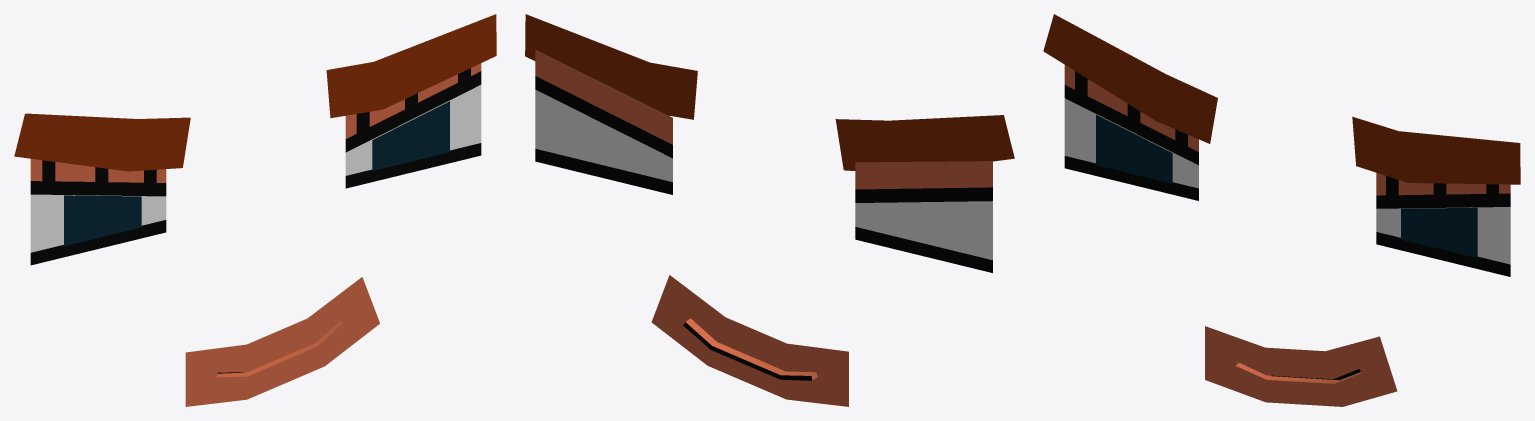
The model's file is Face Female 05.FBX.
The picture shows the model from 3 angles, left to right: view 1: azimuth 30°, elevation 25°; view 2: azimuth 150°, elevation 25°; view 3: azimuth 330°, elevation 25°; orthographic projection. The views are drawn at different scales.
Parts seen in each view (by area): view 1: Face Female 05; view 2: Face Female 05; view 3: Face Female 05.
Boxes of the visible parts, x1,y1,x2,y2 form: Face Female 05: [14, 14, 496, 406]; Face Female 05: [525, 14, 1014, 406]; Face Female 05: [1043, 14, 1520, 406].
Size of the model in its own units: 42.43 by 28.27 by 1.01.
1 material, 1 textured.
